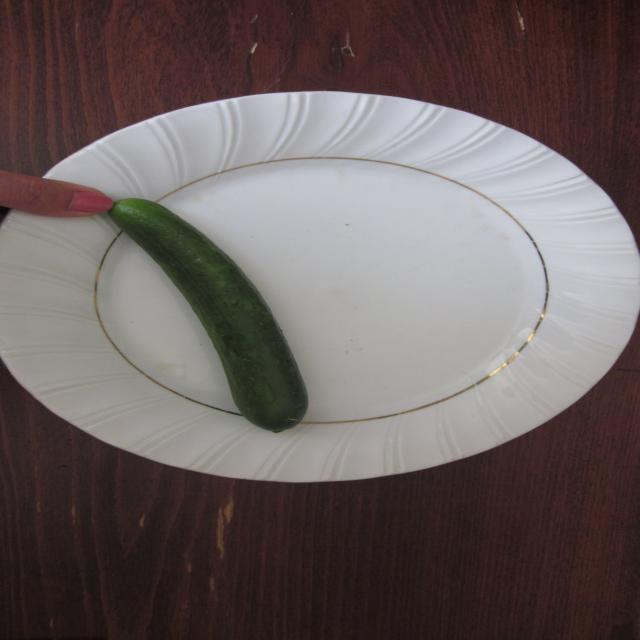cucumber: (106, 196, 348, 443)
